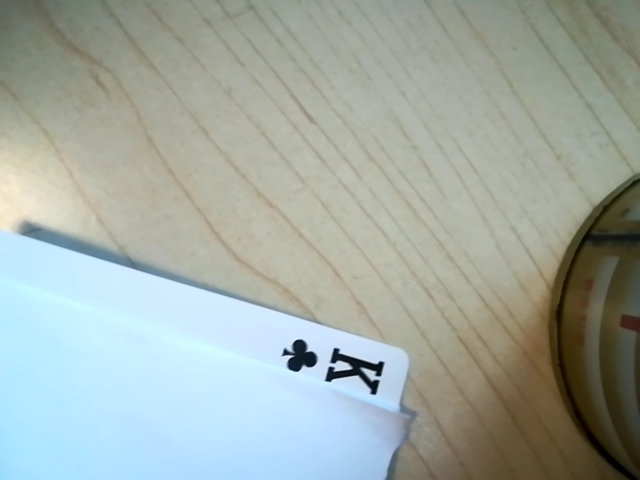mh k: (265, 330, 405, 405)
